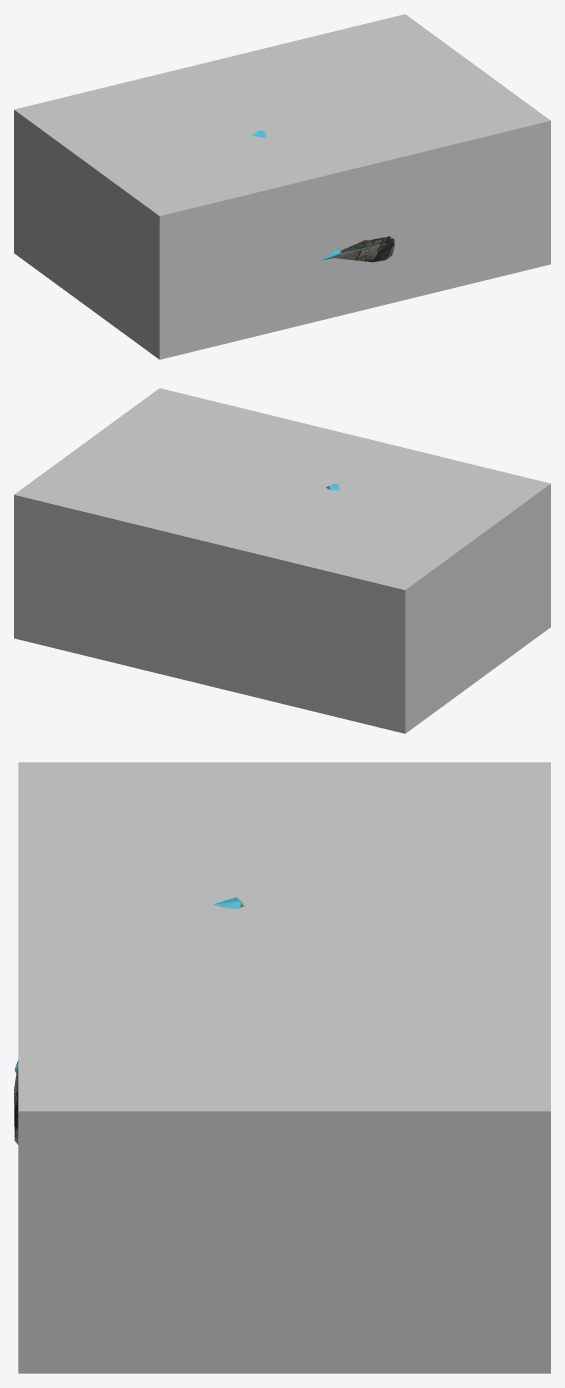
The model's file is 11_groupone.DAE.
3 views of the same model, one above another, from view 1: azimuth 30°, elevation 25°; view 2: azimuth 150°, elevation 25°; view 3: azimuth 270°, elevation 25° (orthographic). The views are drawn at different scales.
Visible parts, largest first — view 1: bounds, groupone400; view 2: bounds; view 3: bounds.
Boxes of the visible parts, x1,y1,x2,y2 form: bounds: [14, 14, 550, 359]; groupone400: [336, 236, 394, 262]; bounds: [14, 388, 550, 733]; bounds: [18, 762, 550, 1373].
Bounding box in the file's own units: 10.96 × 7.13 × 3.91.
